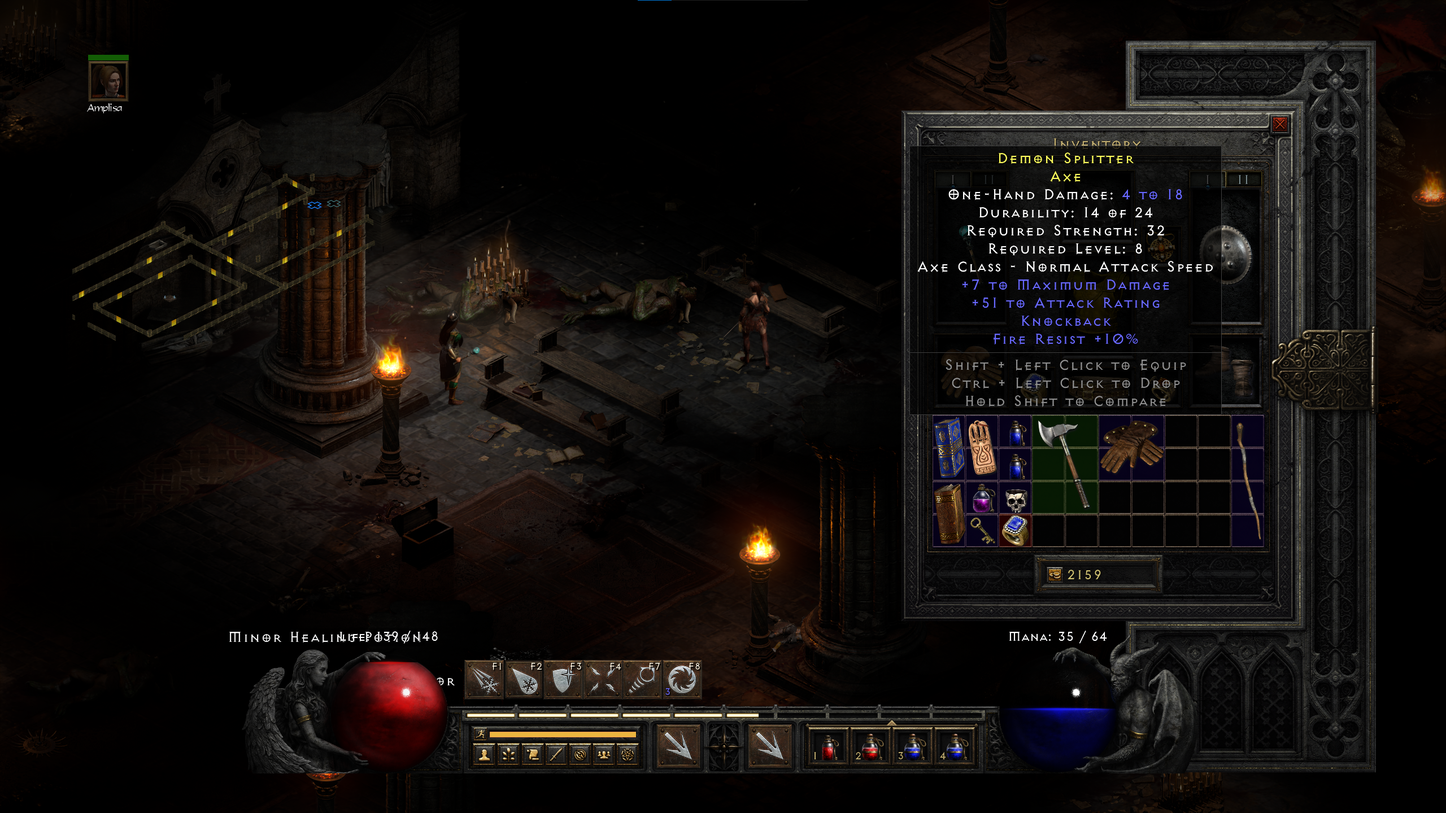tooltip: (909, 146, 1222, 415)
